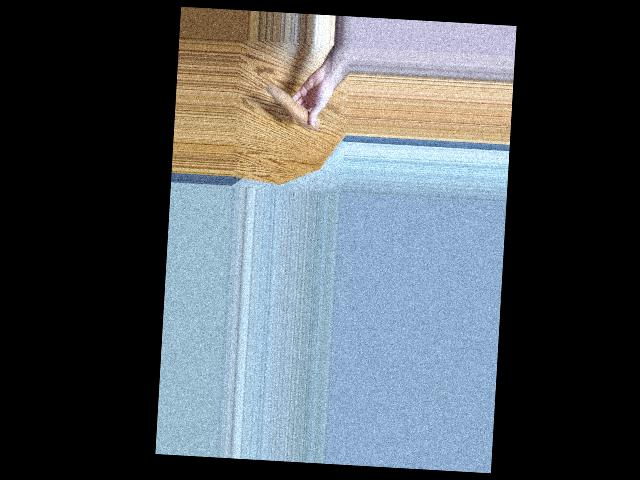sweet_potato: (264, 82, 321, 128)
